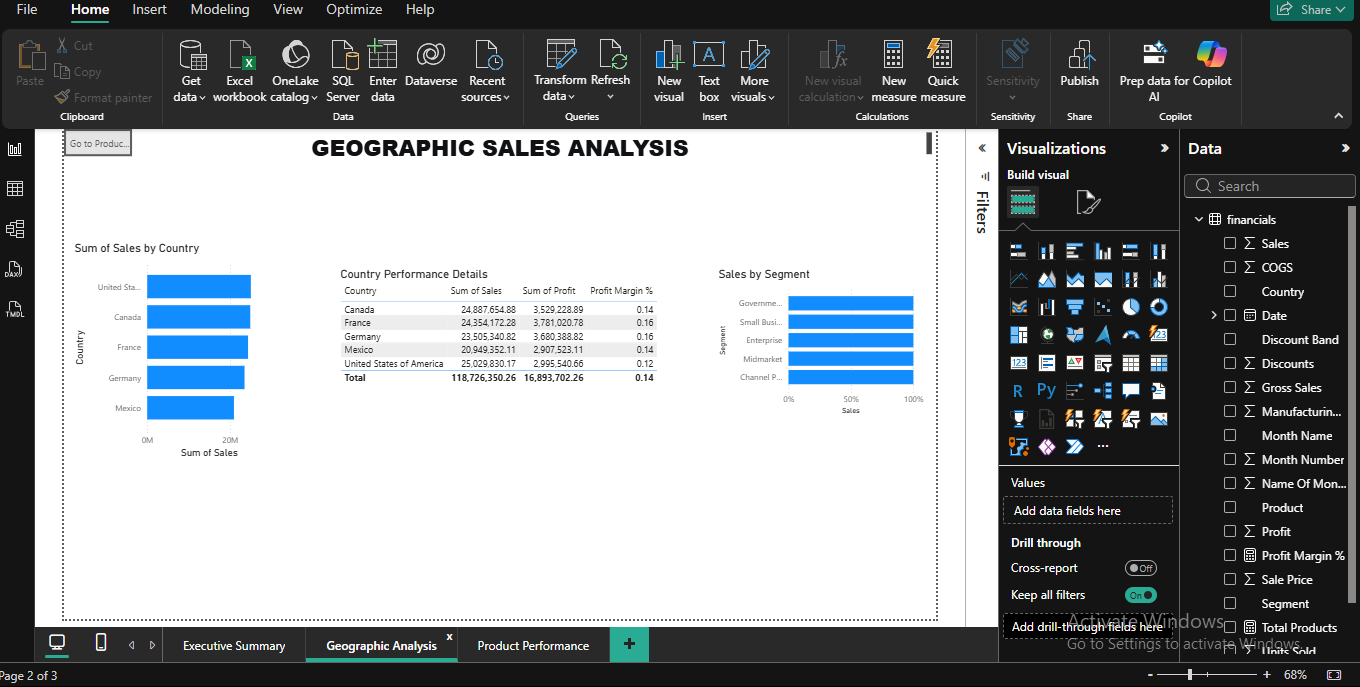

The dashboard page shown, as its layout file describes it:
{"tool":"powerbi","page":{"name":"Geographic Analysis","canvas":[1280,720],"ordinal":1},"visuals":[{"type":"textbox","box":[10.3,0,1269.6,48.5],"z":0},{"type":"barChart","fields":{"Category":["financials.Country"],"Y":["Sum(financials. Sales)"]},"box":[10.3,164.6,311.5,323.3],"z":1000},{"type":"tableEx","title":"Country Performance Details","fields":{"Values":["financials.Country","Sum(financials. Sales)","Sum(financials.Profit)","financials.Profit Margin %"]},"box":[401.1,202.8,479,285.1],"z":2000},{"type":"hundredPercentStackedBarChart","title":"Sales by Segment","fields":{"Category":["financials.Segment"],"Y":["Sum(financials. Sales)"]},"box":[956.6,202.8,311.5,221.9],"z":3000},{"type":"actionButton","box":[0,0,100,40],"z":3001}]}

Visuals, with their boxes on the page's 1280x720 design canvas (x1, y1, x2, y2). These are canvas units, not pixel positions in the 1360x687 screenshot, which may show the page scaled, cropped or inside an application window:
textbox: 10/0/1280/48
barChart - financials.Country x Sum(financials. Sales): 10/165/322/488
"Country Performance Details" tableEx: 401/203/880/488
"Sales by Segment" hundredPercentStackedBarChart: 957/203/1268/425
actionButton: 0/0/100/40
